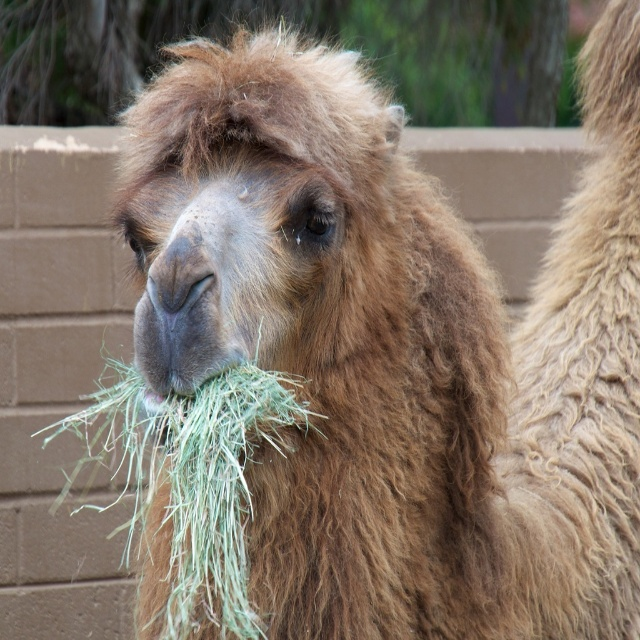Camel: (97, 0, 640, 640)
